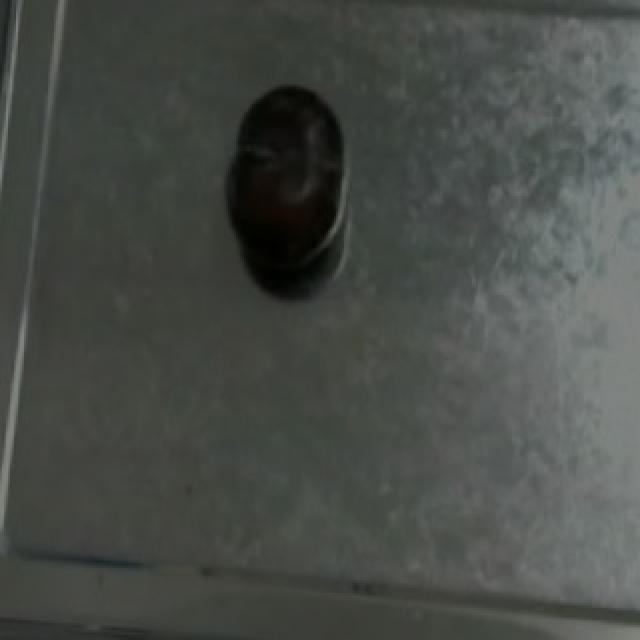Fruit: (222, 77, 352, 283)
